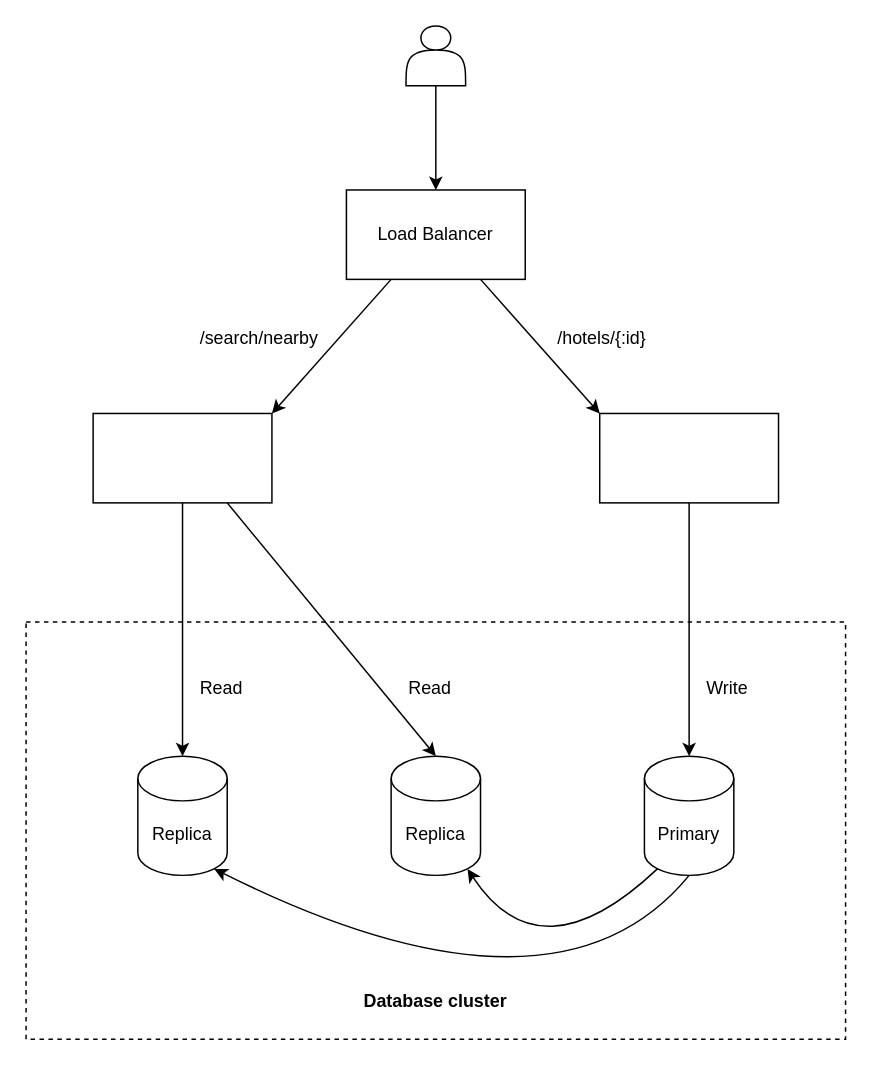
This 872x1065 diagram has some shape labels left out. Each missing label, with the centre of its shape:
"Hotel API" goes at point (688, 457).
"Search API" goes at point (182, 457).
